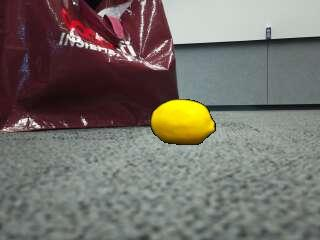lemon: (151, 101, 214, 145)
